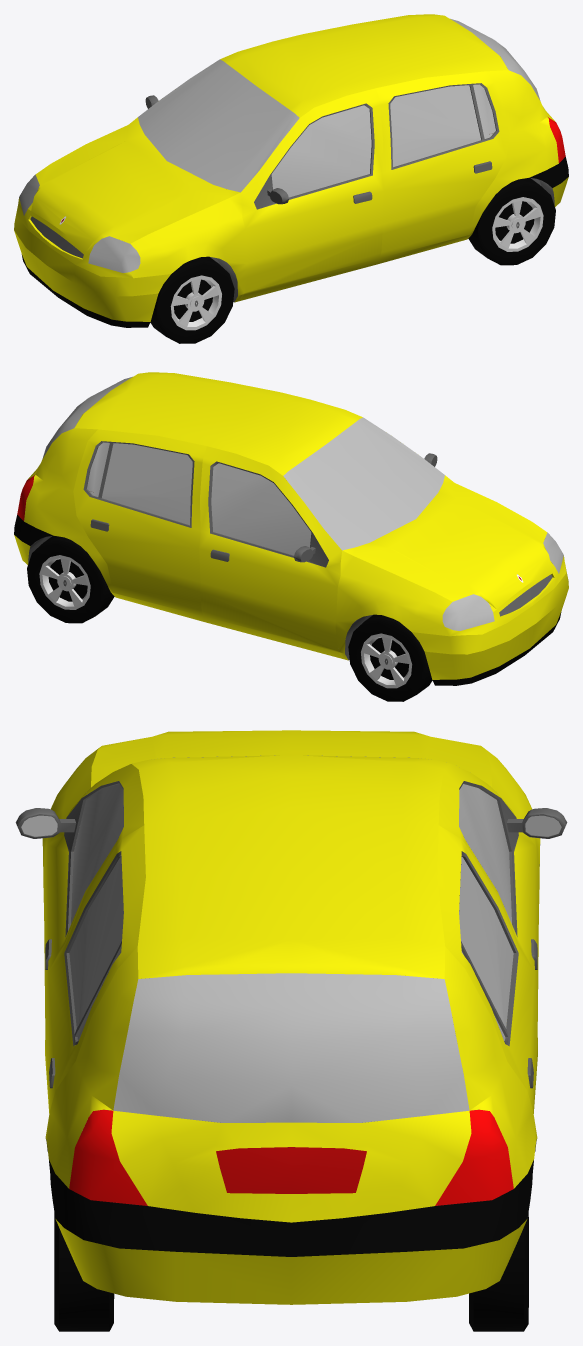
The model's file is renault_clio_2.glb.
3 views of the same model, one above another, from view 1: azimuth 30°, elevation 25°; view 2: azimuth 150°, elevation 25°; view 3: azimuth 270°, elevation 25° (orthographic). The views are drawn at different scales.
Visible parts, largest first — view 1: Object_16, Object_4, Object_6, Object_7, Object_15, Object_12; view 2: Object_16, Object_4, Object_6, Object_7, Object_15, Object_12; view 3: Object_16, Object_4, Object_5, Object_6, Object_9, Object_8.
Boxes of the visible parts, x1,y1,x2,y2 form: Object_16: [14, 14, 568, 343]; Object_4: [19, 18, 540, 272]; Object_6: [30, 83, 519, 306]; Object_7: [170, 197, 543, 330]; Object_15: [173, 201, 534, 321]; Object_12: [209, 178, 554, 302]; Object_16: [14, 372, 568, 701]; Object_4: [42, 376, 563, 630]; Object_6: [63, 441, 552, 664]; Object_7: [39, 555, 412, 688]; Object_15: [48, 559, 409, 679]; Object_12: [28, 536, 373, 660]; Object_16: [42, 730, 540, 1331]; Object_4: [69, 755, 513, 1122]; Object_5: [69, 1109, 513, 1205]; Object_6: [15, 781, 567, 1110]; Object_9: [216, 1147, 366, 1193]; Object_8: [21, 815, 561, 836].
Bounding box in the file's own units: 163 × 62.25 × 79.52.
